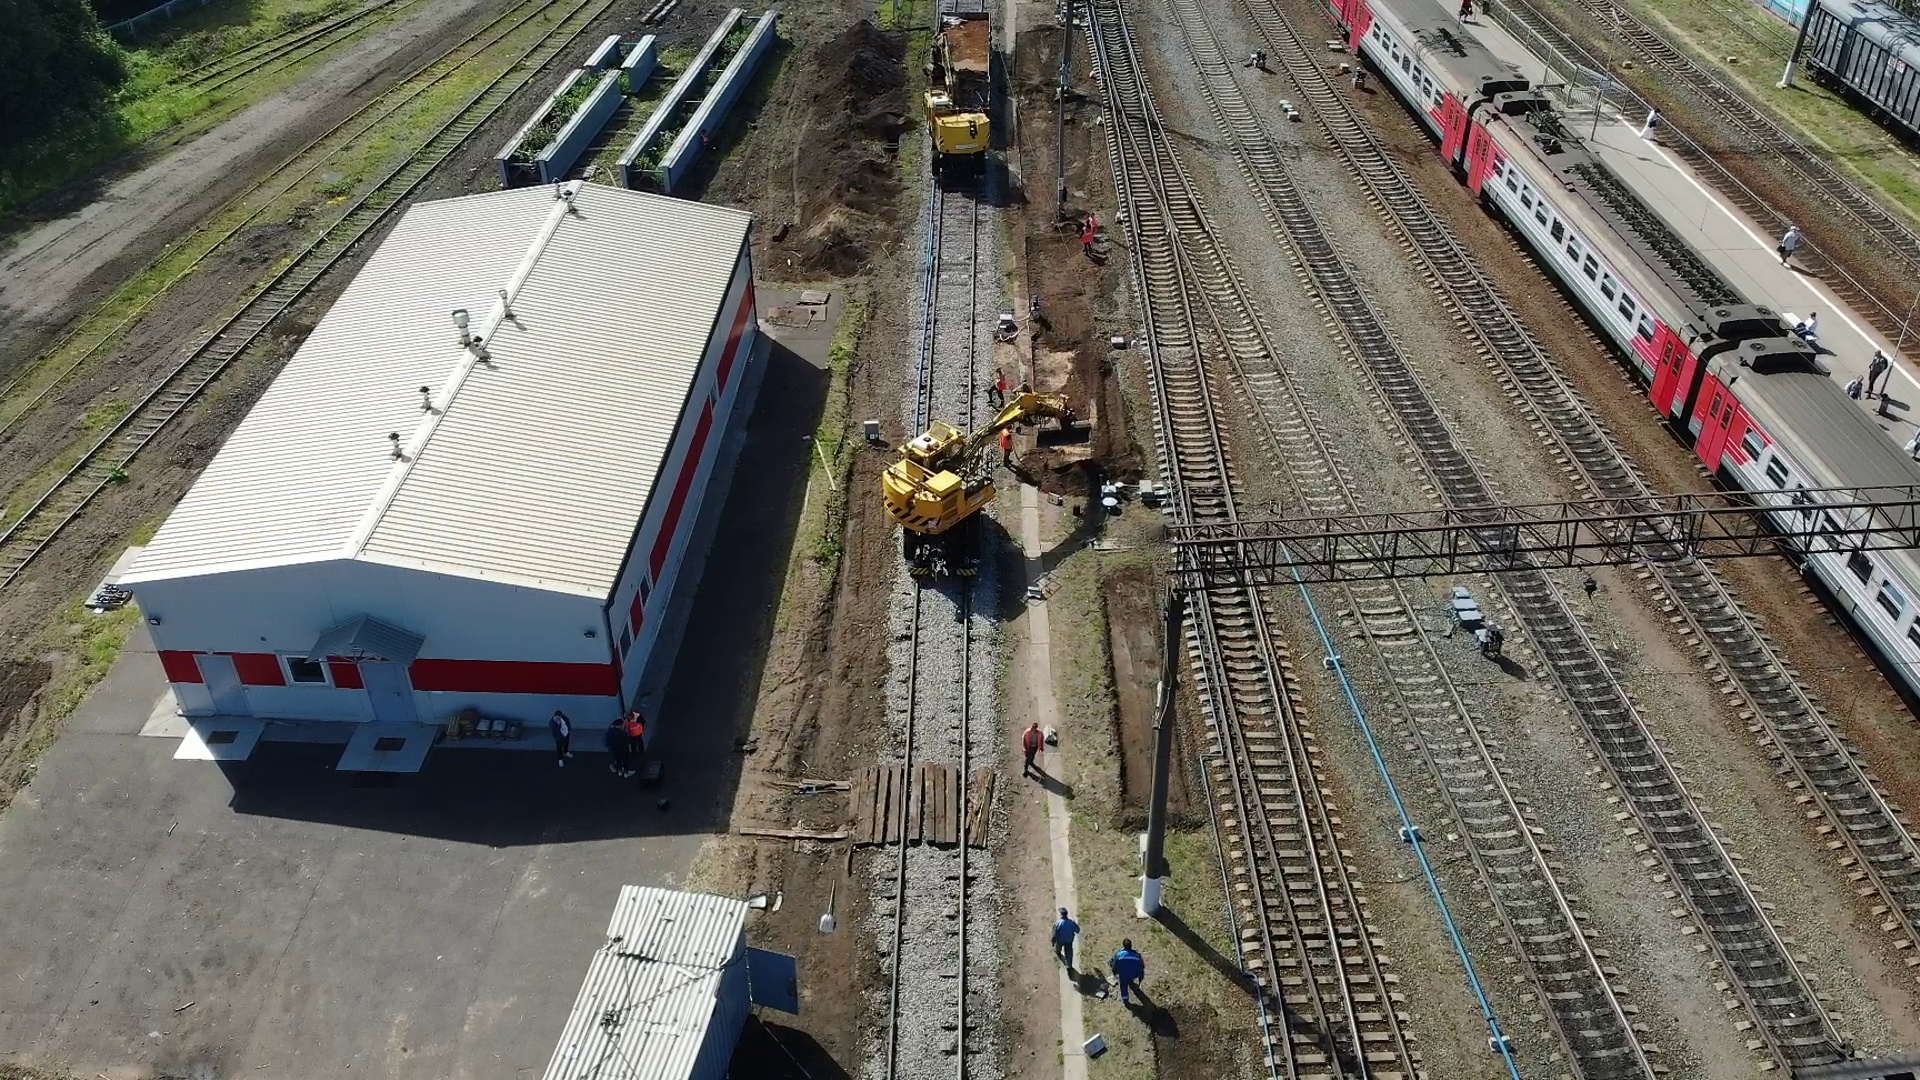kjtv: (882, 422, 1000, 587), (923, 104, 998, 186)
